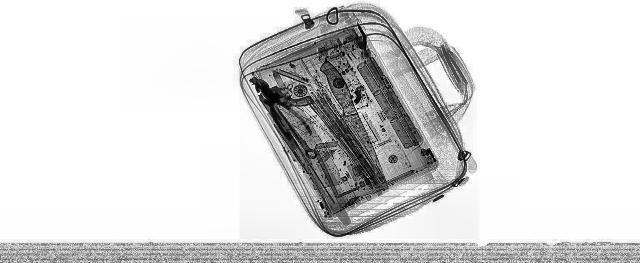Gun: (245, 73, 315, 109)
Knife: (316, 62, 394, 182)
Pliers: (237, 76, 321, 140)
